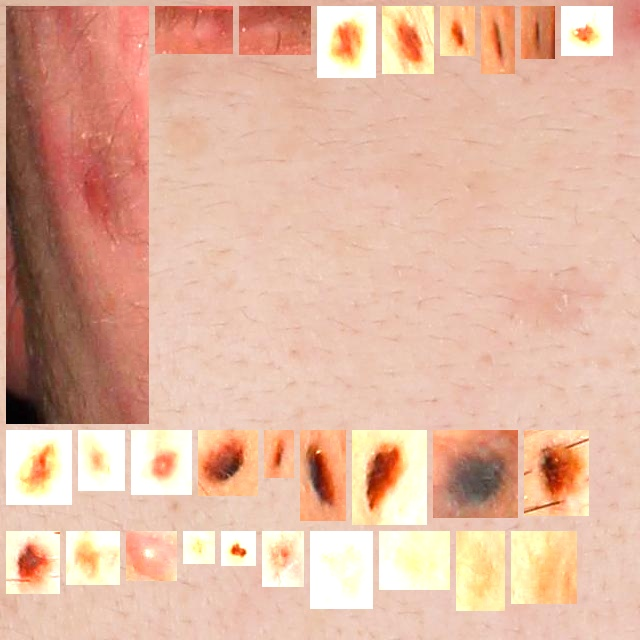hypertrophic_scar: (14, 14, 141, 416), (163, 14, 225, 46), (247, 14, 303, 47)
melasma: (318, 539, 365, 601), (519, 539, 569, 596), (387, 539, 442, 582), (464, 539, 497, 603), (74, 539, 112, 577), (191, 539, 207, 556)
nevus: (441, 438, 510, 510), (360, 438, 419, 517), (532, 438, 581, 508), (14, 438, 64, 497), (325, 14, 368, 70), (308, 438, 338, 513), (139, 438, 184, 487), (206, 438, 250, 488), (390, 14, 426, 66), (14, 539, 52, 586), (86, 438, 117, 483), (569, 14, 605, 48), (270, 539, 296, 579), (489, 14, 507, 66), (529, 14, 547, 51), (448, 14, 467, 48), (272, 438, 286, 470), (229, 539, 248, 558)
pustule: (134, 539, 169, 573)
